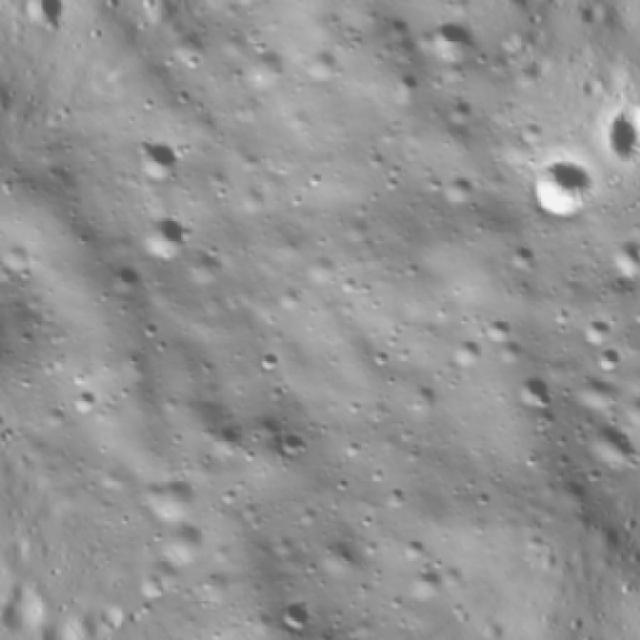crater: (507, 134, 619, 243), (125, 198, 201, 272), (119, 121, 193, 196), (418, 7, 480, 71), (271, 584, 331, 640), (382, 60, 432, 109)
